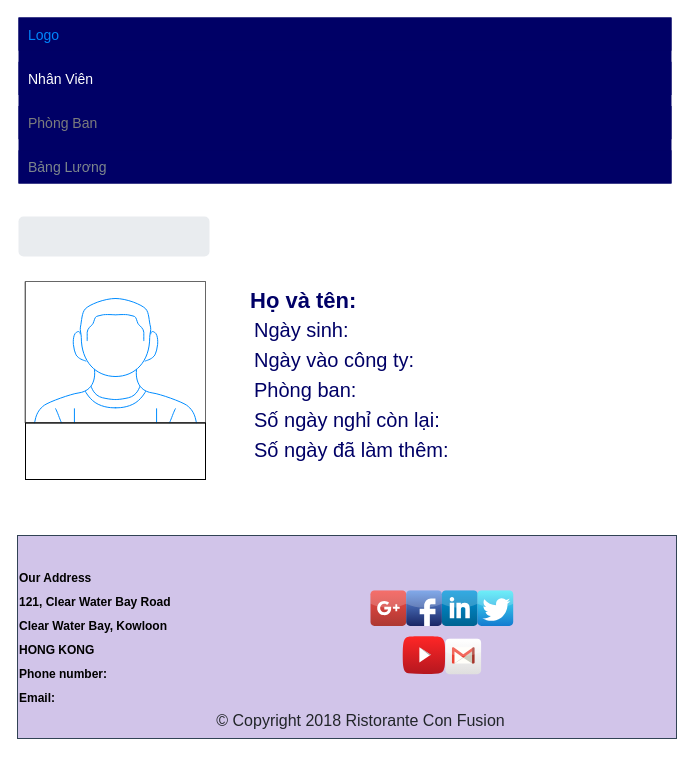
Some shapes in this 694 by 776 pixel diagram are drawn without their labels. Each missing label, with the centre of its shape:
"Nhân viên / Tên nhân viên" goes at (113,236).
"Tên nhân viên" goes at (115,451).
